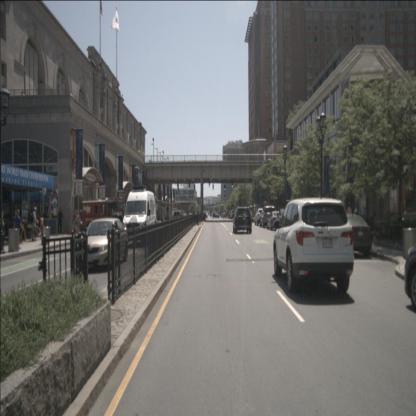human-pedestrian-adult: (13, 209, 24, 249), (28, 212, 41, 240), (29, 206, 38, 241), (12, 202, 18, 236), (57, 207, 63, 234), (75, 210, 80, 234), (72, 209, 76, 234)
vehicle-car: (273, 197, 354, 295), (80, 216, 128, 271), (122, 189, 158, 242), (342, 213, 372, 256), (403, 242, 416, 324), (232, 206, 252, 234), (260, 206, 276, 228), (267, 210, 282, 230), (255, 209, 266, 226), (212, 212, 220, 219)
vehicle-truck: (82, 198, 127, 238), (172, 212, 182, 221)
